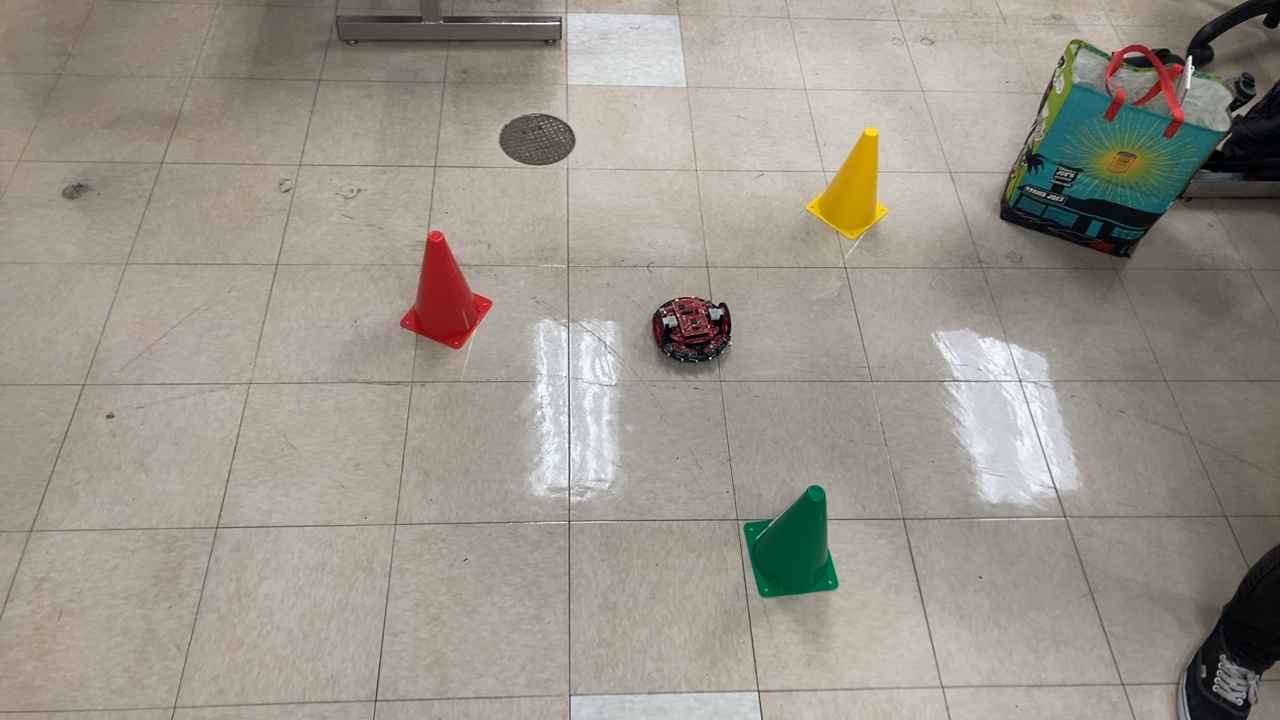green_cone: (741, 481, 844, 603)
red_cone: (399, 228, 497, 357)
robot: (654, 294, 735, 368)
yellow_cone: (803, 123, 890, 242)
